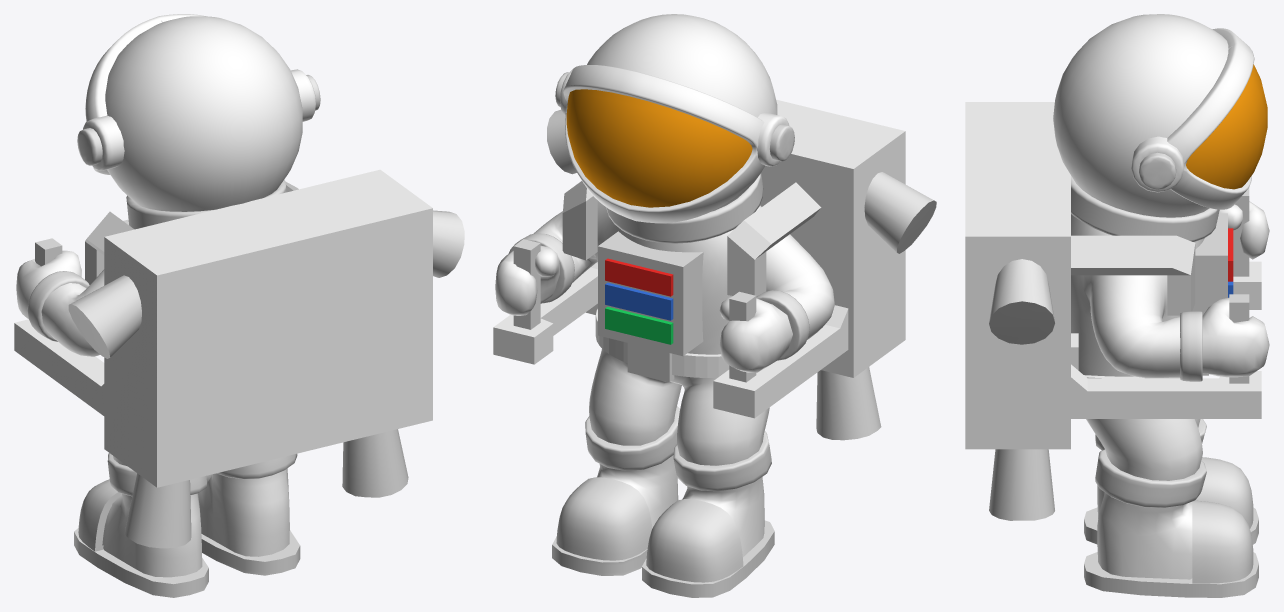
Rendered from rocketman.animated.unity.fbx.
The picture shows the model from 3 angles, left to right: view 1: azimuth 30°, elevation 25°; view 2: azimuth 150°, elevation 25°; view 3: azimuth 270°, elevation 25°; orthographic projection.
Visible parts, largest first — view 1: white.areas, thrusters, chrome, feet.chrome; view 2: white.areas, chrome, feet.chrome, visor, thrusters, buttons; view 3: white.areas, chrome, feet.chrome, thrusters, visor.
Boxes of the visible parts, <box> form: white.areas: <box>14,14,432,577</box>; thrusters: <box>68,210,464,548</box>; chrome: <box>27,75,320,496</box>; feet.chrome: <box>74,479,300,597</box>; white.areas: <box>493,14,905,556</box>; chrome: <box>508,72,821,491</box>; feet.chrome: <box>552,477,774,597</box>; visor: <box>566,89,752,207</box>; thrusters: <box>547,110,936,440</box>; buttons: <box>605,258,673,344</box>; white.areas: <box>965,14,1269,579</box>; chrome: <box>1071,152,1249,507</box>; feet.chrome: <box>1084,457,1258,597</box>; thrusters: <box>989,259,1054,520</box>; visor: <box>1186,64,1267,189</box>.
Size of the model in its own units: 228 by 305 by 158.
1 material, 1 textured.
